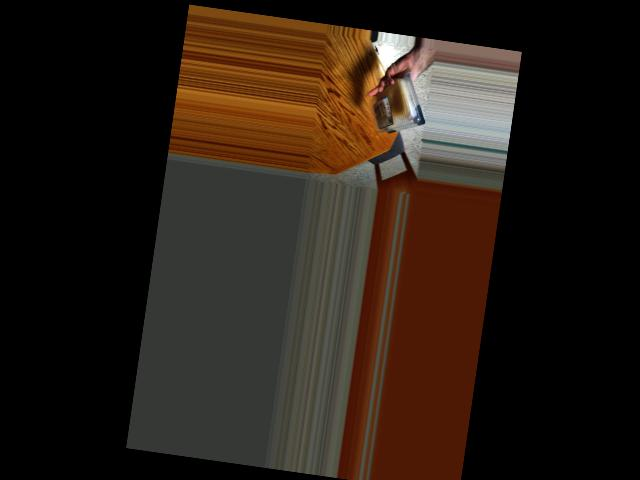cheese: (373, 74, 422, 137)
